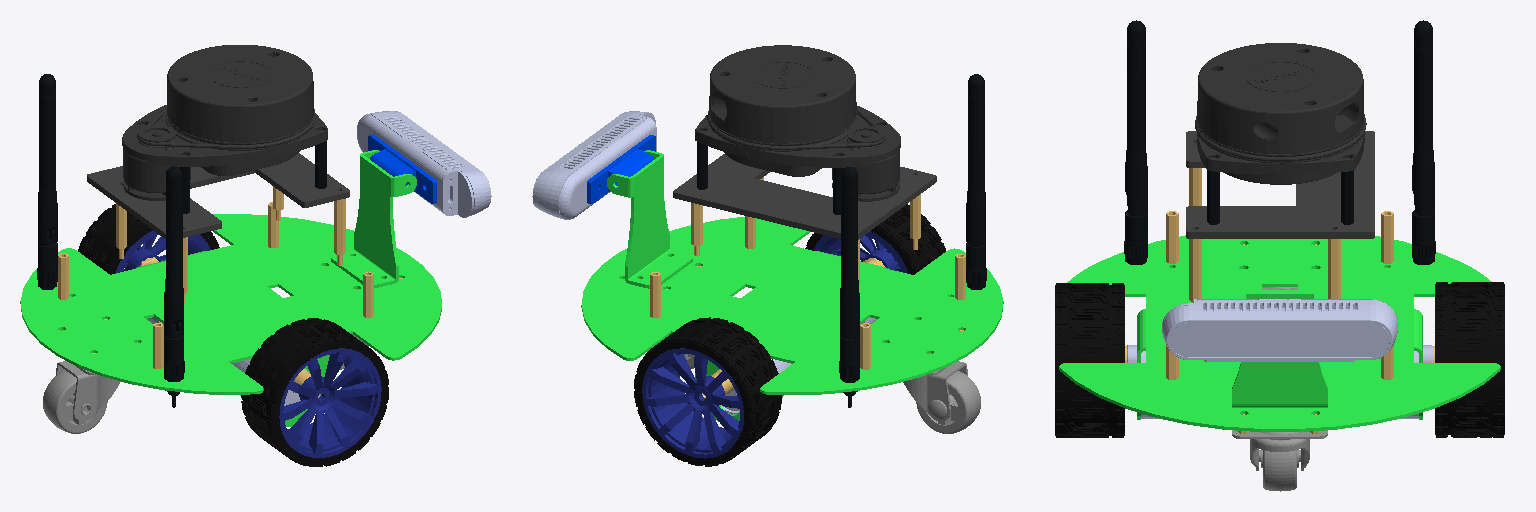
--- What the picture shows (computed from the rendered views, not written in the file) ---
Views: 3 orthographic renders of the robot side by side, from view 1: azimuth 30°, elevation 25°; view 2: azimuth 150°, elevation 25°; view 3: azimuth 270°, elevation 25°.
Robot: Jetbot — 20 links, 19 joints (2 continuous, 17 fixed); root link base_link; default pose: all joints at 0.
Visible links, largest first — view 1: base_link, base_scan, antenna_link, wheel_right_rim, wheel_right_tire, upper_plate_link, camera_link, bolt1_link, caster_back_link, wheel_left_tire, camera_mount_link, wheel_left_rim (+1 smaller); view 2: base_link, base_scan, upper_plate_link, antenna_link, wheel_left_rim, wheel_left_tire, camera_link, caster_back_link, bolt1_link, wheel_right_tire, camera_mount_link, wheel_right_rim (+1 smaller); view 3: base_link, base_scan, camera_link, antenna_link, wheel_left_tire, wheel_right_tire, upper_plate_link, bolt1_link, caster_front_link, bolt2_link.
Link boxes in pixels (x1,y1,x2,y2): base_link: [20, 150, 441, 426]; base_scan: [122, 45, 327, 200]; antenna_link: [37, 74, 184, 407]; wheel_right_rim: [279, 348, 381, 457]; wheel_right_tire: [241, 318, 388, 466]; upper_plate_link: [87, 153, 349, 238]; camera_link: [357, 111, 491, 217]; bolt1_link: [58, 186, 402, 368]; caster_back_link: [43, 361, 120, 433]; wheel_left_tire: [78, 204, 219, 274]; camera_mount_link: [368, 134, 436, 203]; wheel_left_rim: [115, 230, 210, 273]; base_link: [581, 150, 1003, 421]; base_scan: [695, 45, 900, 201]; upper_plate_link: [673, 154, 936, 239]; antenna_link: [839, 74, 986, 407]; wheel_left_rim: [642, 348, 743, 458]; wheel_left_tire: [634, 317, 781, 466]; camera_link: [532, 111, 656, 219]; caster_back_link: [903, 361, 980, 433]; bolt1_link: [650, 177, 965, 369]; wheel_right_tire: [805, 204, 945, 274]; camera_mount_link: [587, 135, 655, 203]; wheel_right_rim: [813, 231, 908, 273]; base_link: [1059, 235, 1500, 431]; base_scan: [1195, 43, 1366, 184]; camera_link: [1162, 299, 1397, 361]; antenna_link: [1124, 20, 1435, 264]; wheel_left_tire: [1435, 282, 1504, 437]; wheel_right_tire: [1055, 283, 1124, 437]; upper_plate_link: [1186, 131, 1374, 238]; bolt1_link: [1166, 168, 1393, 433]; caster_front_link: [1232, 430, 1327, 491]; bolt2_link: [1207, 170, 1353, 224].
Bounding box of the posed robot: 0.2156 × 0.1878 × 0.1655 m (x, y, z).
Meshes: 20 distinct files referenced, 18 mesh visuals loaded (18 binary STL); not drawn: 2 (reference not matched to a file when rendering).

URDF robot description (Jetbot):
<?xml version="1.0" encoding="utf-8"?>
<!-- This URDF was automatically created by SolidWorks to URDF Exporter! Originally created by Stephen Brawner ([email redacted]) 
     Commit Version: 1.6.0-4-g7f85cfe  Build Version: 1.6.7995.38578
     For more information, please see http://wiki.ros.org/sw_urdf_exporter -->
<robot
  name="Jetbot">
  
  <!-- <link name="base_footprint"/>

  <joint name="base_joint" type="fixed">
    <parent link="base_footprint"/>
    <child link="base_link"/>
    <origin xyz="0.0 0.0 0.05" rpy="0 0 0"/>
  </joint> -->


  <link
    name="base_link">
    <inertial>
      <origin
        xyz="0.00781963845778095 -7.35882317130787E-08 -0.000209926041797086"
        rpy="0 0 0" />
      <mass
        value="0.045584055118095" />
      <inertia
        ixx="7.90379546337164E-05"
        ixy="-6.67110738185195E-13"
        ixz="-2.39290720776838E-07"
        iyy="0.000115926497813917"
        iyz="-1.15368484324182E-10"
        izz="0.000189544079309469" />
    </inertial>
    <visual>
      <origin
        xyz="0 0 0"
        rpy="0 0 0" />
      <geometry>
        <mesh
          filename="package://jetbot_model/meshes/other_parts/base_link.STL" />
      </geometry>
      <material
        name="">
        <color
          rgba="0.223529411764706 1 0.352941176470588 1" />
      </material>
    </visual>
    <collision>
      <origin
        xyz="0 0 0"
        rpy="0 0 0" />
      <geometry>
        <mesh
          filename="package://jetbot_model/meshes/other_parts/base_link.STL" />
      </geometry>
    </collision>
  </link>
  <link
    name="wheel_right_link">
    <inertial>
      <origin
        xyz="1.98363002065771E-08 -8.50421726095174E-10 0.00586401160881991"
        rpy="0 0 0" />
      <mass
        value="0.00172858234067031" />
      <inertia
        ixx="6.56229488257871E-08"
        ixy="-4.0657627162479E-11"
        ixz="3.21252173208187E-14"
        iyy="6.48514677017681E-08"
        iyz="1.99615043771152E-15"
        izz="3.47684231742651E-08" />
    </inertial>
    <visual>
      <origin
        xyz="0 0 0"
        rpy="0 0 0" />
      <geometry>
        <mesh
          filename="package://jetbot_model/meshes/wheels/wheel_right_link.STL" />
      </geometry>
      <material
        name="">
        <color
          rgba="0.952941176470588 0.796078431372549 0.486274509803922 1" />
      </material>
    </visual>
    <collision>
      <origin
        xyz="0 0 0"
        rpy="0 0 0" />
      <geometry>
        <mesh
          filename="package://jetbot_model/meshes/wheels/wheel_right_link.STL" />
      </geometry>
    </collision>
  </link>
  <joint
    name="wheel_right_joint"
    type="continuous">
    <origin
      xyz="0 -0.0796 -0.0149998499189951"
      rpy="-1.57079632679489 0 0" />
    <parent
      link="base_link" />
    <child
      link="wheel_right_link" />
    <axis
      xyz="0 0 1" />
    <limit
      lower="0"
      upper="0"
      effort="0"
      velocity="0" />
  </joint>
  <link
    name="wheel_right_rim">
    <inertial>
      <origin
        xyz="-5.4423268058823E-08 -3.02317271563823E-08 -0.0013175684688612"
        rpy="0 0 0" />
      <mass
        value="0.0150430722977072" />
      <inertia
        ixx="5.42837949690631E-06"
        ixy="3.84011877778841E-12"
        ixz="-6.00504131491743E-12"
        iyy="5.42837483963373E-06"
        iyz="-3.30832951882215E-12"
        izz="8.62999669450023E-06" />
    </inertial>
    <visual>
      <origin
        xyz="0 0 0"
        rpy="0 0 0" />
      <geometry>
        <mesh
          filename="package://jetbot_model/meshes/wheels/wheel_right_rim.STL" />
      </geometry>
      <material
        name="">
        <color
          rgba="0.188235294117647 0.231372549019608 0.588235294117647 1" />
      </material>
    </visual>
    <collision>
      <origin
        xyz="0 0 0"
        rpy="0 0 0" />
      <geometry>
        <mesh
          filename="package://jetbot_model/meshes/wheels/wheel_right_rim.STL" />
      </geometry>
    </collision>
  </link>
  <joint
    name="wheel_right_rim_joint"
    type="fixed">
    <origin
      xyz="0 0 0"
      rpy="0 0 0" />
    <parent
      link="wheel_right_link" />
    <child
      link="wheel_right_rim" />
    <axis
      xyz="0 0 0" />
  </joint>
  <link
    name="wheel_right_tire">
    <inertial>
      <origin
        xyz="2.82158362829299E-05 0.00140580379860784 0.000181962684636737"
        rpy="0 0 0" />
      <mass
        value="0.0254630899937217" />
      <inertia
        ixx="1.28912347647895E-05"
        ixy="7.07465873148456E-10"
        ixz="-9.06345483333125E-12"
        iyy="1.29264691304977E-05"
        iyz="-4.52275733373978E-10"
        izz="2.22597285939851E-05" />
    </inertial>
    <visual>
      <origin
        xyz="0 0 0"
        rpy="0 0 0" />
      <geometry>
        <mesh
          filename="package://jetbot_model/meshes/wheels/wheel_right_tire.STL" />
      </geometry>
      <material
        name="">
        <color
          rgba="0.0980392156862745 0.0980392156862745 0.0980392156862745 1" />
      </material>
    </visual>
    <collision>
      <origin
        xyz="0 0 0"
        rpy="0 0 0" />
      <geometry>
        <mesh
          filename="package://jetbot_model/meshes/wheels/wheel_right_tire.STL" />
      </geometry>
    </collision>
  </link>
  <joint
    name="wheel_right_tire_joint"
    type="fixed">
    <origin
      xyz="0 0 0"
      rpy="0 0 0" />
    <parent
      link="wheel_right_link" />
    <child
      link="wheel_right_tire" />
    <axis
      xyz="0 0 0" />
  </joint>
  <link
    name="wheel_left_link">
    <inertial>
      <origin
        xyz="2.3009393140816E-09 1.97207421781531E-08 -0.00586401160882002"
        rpy="0 0 0" />
      <mass
        value="0.00172858234067031" />
      <inertia
        ixx="6.48580948386293E-08"
        ixy="8.1986795876624E-11"
        ixz="-7.05727936679317E-15"
        iyy="6.56163216889261E-08"
        iyz="-3.14039638015827E-14"
        izz="3.47684231742651E-08" />
    </inertial>
    <visual>
      <origin
        xyz="0 0 0"
        rpy="0 0 0" />
      <geometry>
        <mesh
          filename="package://jetbot_model/meshes/wheels/wheel_left_link.STL" />
      </geometry>
      <material
        name="">
        <color
          rgba="0.952941176470588 0.796078431372549 0.486274509803922 1" />
      </material>
    </visual>
    <collision>
      <origin
        xyz="0 0 0"
        rpy="0 0 0" />
      <geometry>
        <mesh
          filename="package://jetbot_model/meshes/wheels/wheel_left_link.STL" />
      </geometry>
    </collision>
  </link>
  <joint
    name="wheel_left_joint"
    type="continuous">
    <origin
      xyz="0 0.0796 -0.0149998499189951"
      rpy="-1.5707963267949 0 0" />
    <parent
      link="base_link" />
    <child
      link="wheel_left_link" />
    <axis
      xyz="0 0 1" />
    <limit
      lower="0"
      upper="0"
      effort="0"
      velocity="0" />
  </joint>
  <link
    name="wheel_left_rim">
    <inertial>
      <origin
        xyz="-3.84671055148056E-08 -4.89502935754893E-08 0.00131756846886109"
        rpy="0 0 0" />
      <mass
        value="0.0150430722977072" />
      <inertia
        ixx="5.42837615703599E-06"
        ixy="4.37566736479211E-12"
        ixz="4.21736389882695E-12"
        iyy="5.4283781795041E-06"
        iyz="5.40549773271856E-12"
        izz="8.62999669450022E-06" />
    </inertial>
    <visual>
      <origin
        xyz="0 0 0"
        rpy="0 0 0" />
      <geometry>
        <mesh
          filename="package://jetbot_model/meshes/wheels/wheel_left_rim.STL" />
      </geometry>
      <material
        name="">
        <color
          rgba="0.188235294117647 0.231372549019608 0.588235294117647 1" />
      </material>
    </visual>
    <collision>
      <origin
        xyz="0 0 0"
        rpy="0 0 0" />
      <geometry>
        <mesh
          filename="package://jetbot_model/meshes/wheels/wheel_left_rim.STL" />
      </geometry>
    </collision>
  </link>
  <joint
    name="wheel_left_rim_joint"
    type="fixed">
    <origin
      xyz="0 0 0"
      rpy="0 0 0" />
    <parent
      link="wheel_left_link" />
    <child
      link="wheel_left_rim" />
    <axis
      xyz="0 0 0" />
  </joint>
  <link
    name="wheel_left_tire">
    <inertial>
      <origin
        xyz="0.00139253923871222 -0.000194717544789592 -0.000181962684636799"
        rpy="0 0 0" />
      <mass
        value="0.0254630899937217" />
      <inertia
        ixx="1.29258070859562E-05"
        ixy="-4.83620972217383E-09"
        ixz="4.48006012970371E-10"
        iyy="1.28918968093311E-05"
        iyz="-6.26585791959336E-11"
        izz="2.22597285939851E-05" />
    </inertial>
    <visual>
      <origin
        xyz="0 0 0"
        rpy="0 0 0" />
      <geometry>
        <mesh
          filename="package://jetbot_model/meshes/wheels/wheel_left_tire.STL" />
      </geometry>
      <material
        name="">
        <color
          rgba="0.0980392156862745 0.0980392156862745 0.0980392156862745 1" />
      </material>
    </visual>
    <collision>
      <origin
        xyz="0 0 0"
        rpy="0 0 0" />
      <geometry>
        <mesh
          filename="package://jetbot_model/meshes/wheels/wheel_left_tire.STL" />
      </geometry>
    </collision>
  </link>
  <joint
    name="wheel_left_tire_joint"
    type="fixed">
    <origin
      xyz="0 0 0"
      rpy="0 0 0" />
    <parent
      link="wheel_left_link" />
    <child
      link="wheel_left_tire" />
    <axis
      xyz="0 0 0" />
  </joint>
  <link
    name="camera_mount_link">
    <inertial>
      <origin
        xyz="0.0911446606387492 -5.00000000013164E-05 0.0475547495822917"
        rpy="0 0 0" />
      <mass
        value="0.00369253564371622" />
      <inertia
        ixx="7.11782812945527E-07"
        ixy="-3.32390099825911E-21"
        ixz="1.1528802234911E-23"
        iyy="7.28653732283989E-08"
        iyz="1.79708825096588E-22"
        izz="7.14964958537606E-07" />
    </inertial>
    <visual>
      <origin
        xyz="0 0 0"
        rpy="0 0 0" />
      <geometry>
        <mesh
          filename="package://jetbot_model/meshes/realsense/camera_mount_link.STL" />
      </geometry>
      <material
        name="">
        <color
          rgba="0 0.345098039215686 1 1" />
      </material>
    </visual>
    <collision>
      <origin
        xyz="0 0 0"
        rpy="0 0 0" />
      <geometry>
        <mesh
          filename="package://jetbot_model/meshes/realsense/camera_mount_link.STL" />
      </geometry>
    </collision>
  </link>
  <joint
    name="camera_mount_joint"
    type="fixed">
    <origin
      xyz="0 0 0"
      rpy="0 0 0" />
    <parent
      link="base_link" />
    <child
      link="camera_mount_link" />
    <axis
      xyz="0 0 0" />
  </joint>
  <link
    name="camera_link">
    <inertial>
      <origin
        xyz="0.104505569284287 0.00251089945216483 0.0474874189920585"
        rpy="0 0 0" />
      <mass
        value="0.0294229179644187" />
      <inertia
        ixx="2.18815235786117E-05"
        ixy="2.75098516448229E-07"
        ixz="7.68689291749069E-11"
        iyy="1.35440746294821E-06"
        iyz="1.72750913510838E-09"
        izz="2.09152095144145E-05" />
    </inertial>
    <visual>
      <origin
        xyz="0 0 0"
        rpy="0 0 0" />
      <geometry>
        <mesh
          filename="package://jetbot_model/meshes/realsense/camera_link.STL" />
      </geometry>
      <material
        name="">
        <color
          rgba="0.792156862745098 0.819607843137255 0.933333333333333 1" />
      </material>
    </visual>
    <collision>
      <origin
        xyz="0 0 0"
        rpy="0 0 0" />
      <geometry>
        <mesh
          filename="package://jetbot_model/meshes/realsense/camera_link.STL" />
      </geometry>
    </collision>
  </link>
  <joint
    name="camera_joint"
    type="fixed">
    <origin
      xyz="0 0 0"
      rpy="0 0 0" />
    <parent
      link="camera_mount_link" />
    <child
      link="camera_link" />
    <axis
      xyz="0 0 0" />
  </joint>
  <link
    name="caster_back_link">
    <inertial>
      <origin
        xyz="-0.00973608929282141 0.0160138996536298 0.000112305501830591"
        rpy="0 0 0" />
      <mass
        value="0.0122543299069677" />
      <inertia
        ixx="1.03465897444937E-06"
        ixy="4.08895923420779E-08"
        ixz="2.41090924462367E-13"
        iyy="1.24920234693942E-06"
        iyz="-2.2498975199297E-12"
        izz="1.2900058431033E-06" />
    </inertial>
    <visual>
      <origin
        xyz="0 0 0"
        rpy="0 0 0" />
      <geometry>
        <mesh
          filename="package://jetbot_model/meshes/other_parts/caster_back_link.STL" />
      </geometry>
      <material
        name="">
        <color
          rgba="0.627450980392157 0.627450980392157 0.627450980392157 1" />
      </material>
    </visual>
    <collision>
      <origin
        xyz="0 0 0"
        rpy="0 0 0" />
      <geometry>
        <mesh
          filename="package://jetbot_model/meshes/other_parts/caster_back_link.STL" />
      </geometry>
    </collision>
  </link>
  <joint
    name="caster_back_joint"
    type="fixed">
    <origin
      xyz="-0.072 0 -0.0103157534698361"
      rpy="-1.5707963267949 0 0" />
    <parent
      link="base_link" />
    <child
      link="caster_back_link" />
    <axis
      xyz="0 0 0" />
  </joint>
  <link
    name="caster_front_link">
    <inertial>
      <origin
        xyz="-0.00973608929282145 0.0136318109633328 0.00011230550183057"
        rpy="0 0 0" />
      <mass
        value="0.0122543299069677" />
      <inertia
        ixx="1.03465897444937E-06"
        ixy="4.08895923420787E-08"
        ixz="2.41090924810355E-13"
        iyy="1.24920234693941E-06"
        iyz="-2.24989751966103E-12"
        izz="1.29000584310329E-06" />
    </inertial>
    <visual>
      <origin
        xyz="0 0 0"
        rpy="0 0 0" />
      <geometry>
        <mesh
          filename="package://jetbot_model/meshes/other_parts/caster_front_link.STL" />
      </geometry>
      <material
        name="">
        <color
          rgba="0.627450980392157 0.627450980392157 0.627450980392157 1" />
      </material>
    </visual>
    <collision>
      <origin
        xyz="0 0 0"
        rpy="0 0 0" />
      <geometry>
        <mesh
          filename="package://jetbot_model/meshes/other_parts/caster_front_link.STL" />
      </geometry>
    </collision>
  </link>
  <joint
    name="caster_front_joint"
    type="fixed">
    <origin
      xyz="0.072 0 -0.0126978421601332"
      rpy="-1.5707963267949 0 0" />
    <parent
      link="base_link" />
    <child
      link="caster_front_link" />
    <axis
      xyz="0 0 0" />
  </joint>
  <link
    name="imu_link">
    <inertial>
      <origin
        xyz="0.00785413895950092 0.000589850419601447 -0.00363505947193948"
        rpy="0 0 0" />
      <mass
        value="0.0511068131705108" />
      <inertia
        ixx="3.02554869448374E-05"
        ixy="-6.81147489939493E-08"
        ixz="4.3124398785099E-10"
        iyy="3.79539557275355E-05"
        iyz="-1.32997366822506E-10"
        izz="6.69860000874932E-05" />
    </inertial>
    <visual>
      <origin
        xyz="0 0 0"
        rpy="0 0 0" />
      <geometry>
        <mesh
          filename="package://jetbot_model/meshes/other_parts/imu_link.STL" />
      </geometry>
      <material
        name="">
        <color
          rgba="0.5 0.5 0.5 1" />
      </material>
    </visual>
    <collision>
      <origin
        xyz="0 0 0"
        rpy="0 0 0" />
      <geometry>
        <mesh
          filename="package://jetbot_model/meshes/other_parts/imu_link.STL" />
      </geometry>
    </collision>
  </link>
  <joint
    name="imu_joint"
    type="fixed">
    <origin
      xyz="-0.00987996130762421 -0.000612791192577962 0.02311148"
      rpy="0 0 0" />
    <parent
      link="base_link" />
    <child
      link="imu_link" />
    <axis
      xyz="0 0 0" />
  </joint>
  <link
    name="base_scan">
    <inertial>
      <origin
        xyz="-0.013480243056544 0.000481284255951939 -0.00102869936495666"
        rpy="0 0 0" />
      <mass
        value="0.0634432857550415" />
      <inertia
        ixx="1.68383298504221E-05"
        ixy="-1.0448046286551E-07"
        ixz="4.28825686069912E-07"
        iyy="2.10729825490332E-05"
        iyz="-9.43318165957986E-09"
        izz="3.56809250260432E-05" />
    </inertial>
    <visual>
      <origin
        xyz="0 0 0"
        rpy="0 0 0" />
      <geometry>
        <mesh
          filename="package://jetbot_model/meshes/other_parts/base_scan.STL" />
      </geometry>
      <material
        name="">
        <color
          rgba="0.250980392156863 0.250980392156863 0.250980392156863 1" />
      </material>
    </visual>
    <collision>
      <origin
        xyz="0 0 0"
        rpy="0 0 0" />
      <geometry>
        <mesh
          filename="package://jetbot_model/meshes/other_parts/base_scan.STL" />
      </geometry>
    </collision>
  </link>
  <joint
    name="scan_joint"
    type="fixed">
    <origin
      xyz="0.005050049260789 0.000300068757988995 0.092186480000001"
      rpy="0 0 0" />
    <parent
      link="base_link" />
    <child
      link="base_scan" />
    <axis
      xyz="0 0 0" />
  </joint>
  <link
    name="left_motor_link">
    <inertial>
      <origin
        xyz="-2.95081696598254E-07 0.0340253884275023 -0.0216175641159498"
        rpy="0 0 0" />
      <mass
        value="0.0142497272964593" />
      <inertia
        ixx="1.363828934402E-06"
        ixy="-1.47318833570828E-11"
        ixz="-3.04947037598095E-10"
        iyy="2.22876633823434E-06"
        iyz="7.05904980580848E-09"
        izz="1.38872041914448E-06" />
    </inertial>
    <visual>
      <origin
        xyz="0 0 0"
        rpy="0 0 0" />
      <geometry>
        <mesh
          filename="package://jetbot_model/meshes/other_parts/left_motor_link.STL" />
      </geometry>
      <material
        name="">
        <color
          rgba="0.792156862745098 0.819607843137255 0.933333333333333 1" />
      </material>
    </visual>
    <collision>
      <origin
        xyz="0 0 0"
        rpy="0 0 0" />
      <geometry>
        <mesh
          filename="package://jetbot_model/meshes/other_parts/left_motor_link.STL" />
      </geometry>
    </collision>
  </link>
  <joint
    name="left_motor_joint"
    type="fixed">
    <origin
      xyz="0 0 0"
      rpy="0 0 0" />
    <parent
      link="base_link" />
    <child
      link="left_motor_link" />
    <axis
      xyz="0 0 0" />
  </joint>
  <link
    name="right_motor_link">
    <inertial>
      <origin
        xyz="2.9508169580722E-07 -0.0340253884275023 -0.0216175641159498"
        rpy="0 0 0" />
      <mass
        value="0.0142497272964593" />
      <inertia
        ixx="1.36382893440199E-06"
        ixy="-1.4731883386706E-11"
        ixz="3.0494703759845E-10"
        iyy="2.22876633823434E-06"
        iyz="-7.05904980580746E-09"
        izz="1.38872041914447E-06" />
    </inertial>
    <visual>
      <origin
        xyz="0 0 0"
        rpy="0 0 0" />
      <geometry>
        <mesh
          filename="package://jetbot_model/meshes/other_parts/right_motor_link.STL" />
      </geometry>
      <material
        name="">
        <color
          rgba="0.792156862745098 0.819607843137255 0.933333333333333 1" />
      </material>
    </visual>
    <collision>
      <origin
        xyz="0 0 0"
        rpy="0 0 0" />
      <geometry>
        <mesh
          filename="package://jetbot_model/meshes/other_parts/right_motor_link.STL" />
      </geometry>
    </collision>
  </link>
  <joint
    name="right_motor_joint"
    type="fixed">
    <origin
      xyz="0 0 0"
      rpy="0 0 0" />
    <parent
      link="base_link" />
    <child
      link="right_motor_link" />
    <axis
      xyz="0 0 0" />
  </joint>
  <link
    name="upper_plate_link">
    <inertial>
      <origin
        xyz="-0.00767109086663368 0.00605296729060913 0.0621864800000008"
        rpy="0 0 0" />
      <mass
        value="0.017501498901108" />
      <inertia
        ixx="8.93579854534511E-06"
        ixy="-2.74359099373368E-07"
        ixz="4.81575673334949E-19"
        iyy="1.85512486025031E-05"
        iyz="7.07344062963383E-21"
        izz="2.74607948994966E-05" />
    </inertial>
    <visual>
      <origin
        xyz="0 0 0"
        rpy="0 0 0" />
      <geometry>
        <mesh
          filename="package://jetbot_model/meshes/other_parts/upper_plate_link.STL" />
      </geometry>
      <material
        name="">
        <color
          rgba="0.3 0.3 0.3 1" />
      </material>
    </visual>
    <collision>
      <origin
        xyz="0 0 0"
        rpy="0 0 0" />
      <geometry>
        <mesh
          filename="package://jetbot_model/meshes/other_parts/upper_plate_link.STL" />
      </geometry>
    </collision>
  </link>
  <joint
    name="upper_plate_joint"
    type="fixed">
    <origin
      xyz="0 0 0"
      rpy="0 0 0" />
    <parent
      link="base_link" />
    <child
      link="upper_plate_link" />
    <axis
      xyz="0 0 0" />
  </joint>
  <link
    name="antenna_link">
    <inertial>
      <origin
        xyz="-0.0660028995154912 4.40577031377808E-05 0.046811826812688"
        rpy="0 0 0" />
      <mass
        value="0.0134623075785536" />
      <inertia
        ixx="5.56374948010225E-06"
        ixy="-1.03911483629354E-10"
        ixz="-1.35565928440356E-09"
        iyy="5.56559707819264E-06"
        iyz="2.22326930039963E-08"
        izz="1.27639331293959E-07" />
    </inertial>
    <visual>
      <origin
        xyz="0 0 0"
        rpy="0 0 0" />
      <geometry>
        <mesh
          filename="package://jetbot_model/meshes/other_parts/antenna_link.STL" />
      </geometry>
      <material
        name="">
        <color
          rgba="0.0941176470588235 0.109803921568627 0.12156862745098 1" />
      </material>
    </visual>
    <collision>
      <origin
        xyz="0 0 0"
        rpy="0 0 0" />
      <geometry>
        <mesh
          filename="package://jetbot_model/meshes/other_parts/antenna_link.STL" />
      </geometry>
    </collision>
  </link>
  <joint
    name="antenna_joint"
    type="fixed">
    <origin
      xyz="0 0 0"
      rpy="0 0 0" />
    <parent
      link="base_link" />
    <child
      link="antenna_link" />
    <axis
      xyz="0 0 0" />
  </joint>
  <link
    name="bolt1_link">
    <inertial>
      <origin
        xyz="-0.00455766525705633 -0.00317236412008241 0.0247802088927017"
        rpy="0 0 0" />
      <mass
        value="0.00350899316323701" />
      <inertia
        ixx="2.155192655442E-07"
        ixy="9.56888278033086E-24"
        ixz="-1.90766612358315E-21"
        iyy="2.155192655442E-07"
        iyz="-1.87384696573834E-23"
        izz="1.35592340647674E-08" />
    </inertial>
    <visual>
      <origin
        xyz="0 0 0"
        rpy="0 0 0" />
      <geometry>
        <mesh
          filename="package://jetbot_model/meshes/other_parts/bolt1_link.STL" />
      </geometry>
      <material
        name="">
        <color
          rgba="0.952941176470588 0.796078431372549 0.486274509803922 1" />
      </material>
    </visual>
    <collision>
      <origin
        xyz="0 0 0"
        rpy="0 0 0" />
      <geometry>
        <mesh
          filename="package://jetbot_model/meshes/other_parts/bolt1_link.STL" />
      </geometry>
    </collision>
  </link>
  <joint
    name="bolt1_joint"
    type="fixed">
    <origin
      xyz="0 0 0"
      rpy="0 0 0" />
    <parent
      link="base_link" />
    <child
      link="bolt1_link" />
    <axis
      xyz="0 0 0" />
  </joint>
  <link
    name="bolt2_link">
    <inertial>
      <origin
        xyz="-0.00194995073921093 0.000300068757989755 0.07618648"
        rpy="0 0 0" />
      <mass
        value="0.00138168957720949" />
      <inertia
        ixx="7.45830222388665E-08"
        ixy="3.22236047148893E-24"
        ixz="-2.87219091256268E-24"
        iyy="7.45830222388665E-08"
        iyz="-7.36261831006086E-24"
        izz="5.24004685174395E-09" />
    </inertial>
    <visual>
      <origin
        xyz="0 0 0"
        rpy="0 0 0" />
      <geometry>
        <mesh
          filename="package://jetbot_model/meshes/other_parts/bolt2_link.STL" />
      </geometry>
      <material
        name="">
        <color
          rgba="0.0941176470588235 0.109803921568627 0.12156862745098 1" />
      </material>
    </visual>
    <collision>
      <origin
        xyz="0 0 0"
        rpy="0 0 0" />
      <geometry>
        <mesh
          filename="package://jetbot_model/meshes/other_parts/bolt2_link.STL" />
      </geometry>
    </collision>
  </link>
  <joint
    name="bolt2_joint"
    type="fixed">
    <origin
      xyz="0 0 0"
      rpy="0 0 0" />
    <parent
      link="base_link" />
    <child
      link="bolt2_link" />
    <axis
      xyz="0 0 0" />
  </joint>
  <link
    name="nano_link">
    <inertial>
      <origin
        xyz="-0.00451688299579642 -0.00383913355729881 0.0407445974225003"
        rpy="0 0 0" />
      <mass
        value="0.0559886683886946" />
      <inertia
        ixx="1.11286118138229E-05"
        ixy="-6.96076101617625E-09"
        ixz="1.44681908116963E-07"
        iyy="2.01937826489502E-05"
        iyz="-1.30775142928514E-08"
        izz="2.98989437667499E-05" />
    </inertial>
    <visual>
      <origin
        xyz="0 0 0"
        rpy="0 0 0" />
      <geometry>
        <mesh
          filename="package://jetbot_model/meshes/other_parts/nano_link.STL" />
      </geometry>
      <material
        name="">
        <color
          rgba="0.4 0.4 0.4 1" />
      </material>
    </visual>
    <collision>
      <origin
        xyz="0 0 0"
        rpy="0 0 0" />
      <geometry>
        <mesh
          filename="package://jetbot_model/meshes/other_parts/nano_link.STL" />
      </geometry>
    </collision>
  </link>
  <joint
    name="nano_joint"
    type="fixed">
    <origin
      xyz="0 0 0"
      rpy="0 0 0" />
    <parent
      link="base_link" />
    <child
      link="nano_link" />
    <axis
      xyz="0 0 0" />
  </joint>
</robot>
